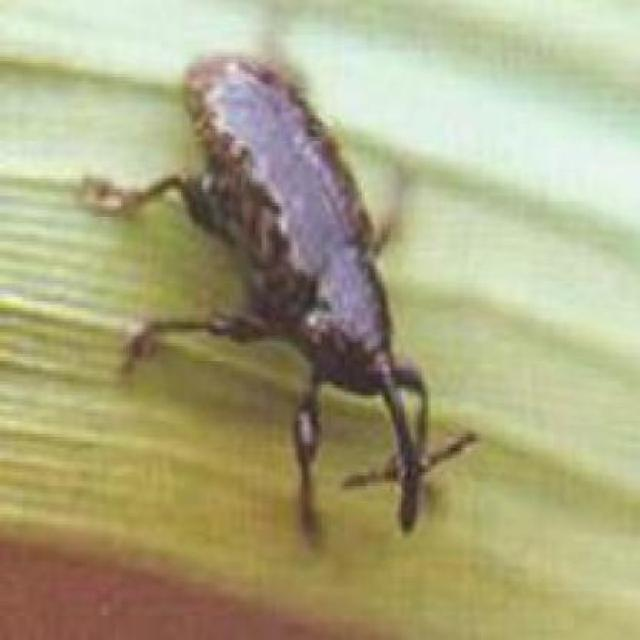rice-bug: (136, 49, 444, 528)
